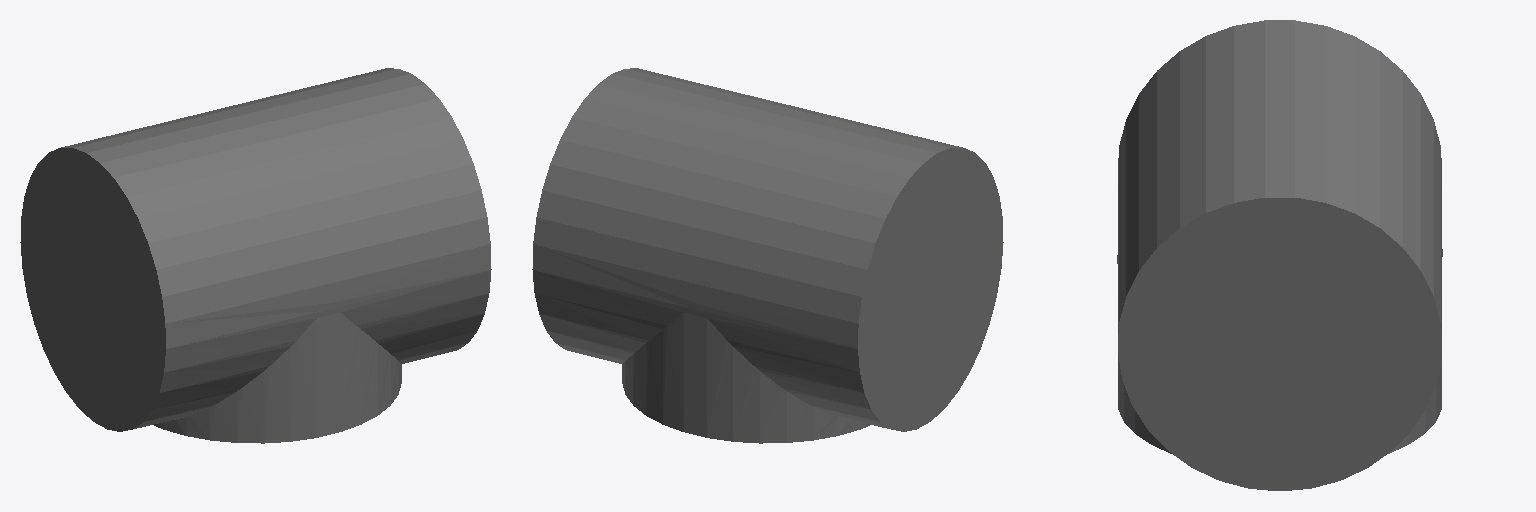
URDF robot description (corner_link-l.SLDASM):
<?xml version="1.0" encoding="utf-8"?>
<!-- This URDF was automatically created by SolidWorks to URDF Exporter! Originally created by [author] ([email redacted]) 
     Commit Version: 1.6.0-4-g7f85cfe  Build Version: 1.6.7995.38578
     For more information, please see http://wiki.ros.org/sw_urdf_exporter -->
<robot
  name="corner_link-l.SLDASM">
  <link
    name="cl_in_1">
    <inertial>
      <origin
        xyz="-1.6373E-18 -7.1138E-08 0.054392"
        rpy="0 0 0" />
      <mass
        value="1.5884" />
      <inertia
        ixx="0.0027805"
        ixy="4.7613E-10"
        ixz="8.5243E-19"
        iyy="0.0041567"
        iyz="2.097E-09"
        izz="0.004117" />
    </inertial>
    <visual>
      <origin
        xyz="0 0 0"
        rpy="0 0 0" />
      <geometry>
        <mesh
          filename="package://corner_link-l.SLDASM/meshes/cl_in_1.STL" />
      </geometry>
      <material
        name="blue">
        <color
          rgba="0 0 0.5 1" />
      </material>
    </visual>
    <collision>
      <origin
        xyz="0 0 0"
        rpy="0 0 0" />
      <geometry>
        <mesh
          filename="package://corner_link-l.SLDASM/meshes/cl_in_1.STL" />
      </geometry>
    </collision>
  </link>
  <link
    name="cl_body">
    <inertial>
      <origin
        xyz="-1.6373E-18 -7.1138E-08 0.054392"
        rpy="0 0 0" />
      <mass
        value="1.5884" />
      <inertia
        ixx="0.0027805"
        ixy="4.7613E-10"
        ixz="8.5243E-19"
        iyy="0.0041567"
        iyz="2.097E-09"
        izz="0.004117" />
    </inertial>
    <visual>
      <origin
        xyz="0 0 0"
        rpy="0 0 0" />
      <geometry>
        <mesh
          filename="package://corner_link-l.SLDASM/meshes/cl_body.STL" />
      </geometry>
      <material
        name="body">
        <color
          rgba="0.5 0.5 0.5 1" />
      </material>
    </visual>
    <collision>
      <origin
        xyz="0 0 0"
        rpy="0 0 0" />
      <geometry>
        <mesh
          filename="package://corner_link-l.SLDASM/meshes/cl_body.STL" />
      </geometry>
    </collision>
  </link>
  <joint
    name="cl_large_1"
    type="fixed">
    <origin
      xyz="0 0 0"
      rpy="0 0 0" />
    <parent
      link="cl_in_1" />
    <child
      link="cl_body" />
    <axis
      xyz="0 0 0" />
  </joint>
  <link
    name="cl_in_2">
    <inertial>
      <origin
        xyz="0.0026095 1.0123E-08 0.0735"
        rpy="0 0 0" />
      <mass
        value="1.5884" />
      <inertia
        ixx="0.004117"
        ixy="-2.097E-09"
        ixz="-6.0692E-19"
        iyy="0.0041567"
        iyz="4.7613E-10"
        izz="0.0027805" />
    </inertial>
    <visual>
      <origin
        xyz="0 0 0"
        rpy="0 0 0" />
      <geometry>
        <mesh
          filename="package://corner_link-l.SLDASM/meshes/cl_in_2.STL" />
      </geometry>
      <material
        name="blue">
        <color
          rgba="0 0 0.5 1" />
      </material>
    </visual>
    <collision>
      <origin
        xyz="0 0 0"
        rpy="0 0 0" />
      <geometry>
        <mesh
          filename="package://corner_link-l.SLDASM/meshes/cl_in_2.STL" />
      </geometry>
    </collision>
  </link>
  <joint
    name="cl_large_2"
    type="fixed">
    <origin
      xyz="-0.0735 0 0.057"
      rpy="0 1.5707963267949 0" />
    <parent
      link="cl_body" />
    <child
      link="cl_in_2" />
    <axis
      xyz="0 0 0" />
  </joint>
</robot>

--- Render facts (derived) ---
The picture shows the robot from 3 angles, left to right: view 1: azimuth 30°, elevation 25°; view 2: azimuth 150°, elevation 25°; view 3: azimuth 270°, elevation 25°; orthographic projection.
Robot: corner_link-l.SLDASM — 3 links, 2 joints (2 fixed); root link cl_in_1; default pose: all joints at 0.
Links seen in each view (by area): view 1: cl_body; view 2: cl_body; view 3: cl_body.
Boxes of the visible links, x1=… form: cl_body: x1=20, y1=68, x2=491, y2=443; cl_body: x1=532, y1=68, x2=1003, y2=443; cl_body: x1=1117, y1=20, x2=1442, y2=490.
Size in the robot's own frame: 0.147 by 0.114 by 0.1137 metres.
2 mesh visuals loaded from 3 distinct referenced files (2 binary STL); not drawn: 1 (reference not matched to a file when rendering).